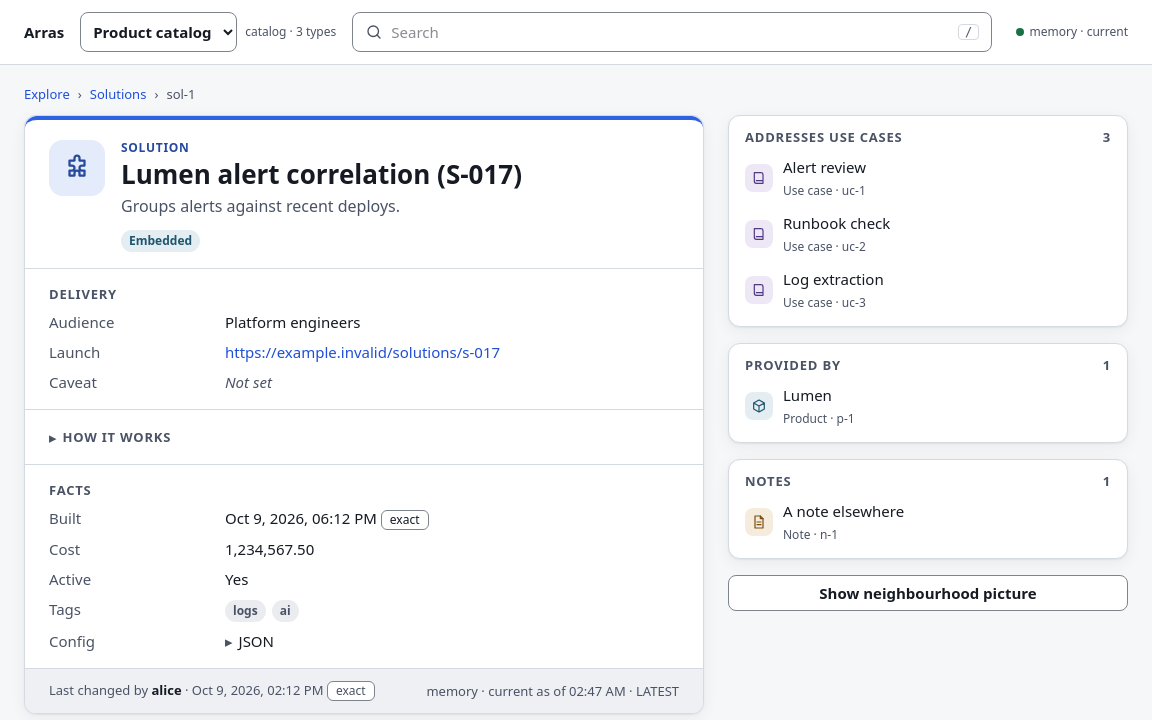
Test case: the neighbourhood picture (US-069) › in a narrow window the picture is behind a button and the lists are the only view until it is pressed
Expected: the element "Neighbourhood of" is not shown
What coordinates should you click on to do the following:
click the button "Show neighbourhood picture"
I would click on:
 (928, 593)
Its box is [728,575,1128,611].
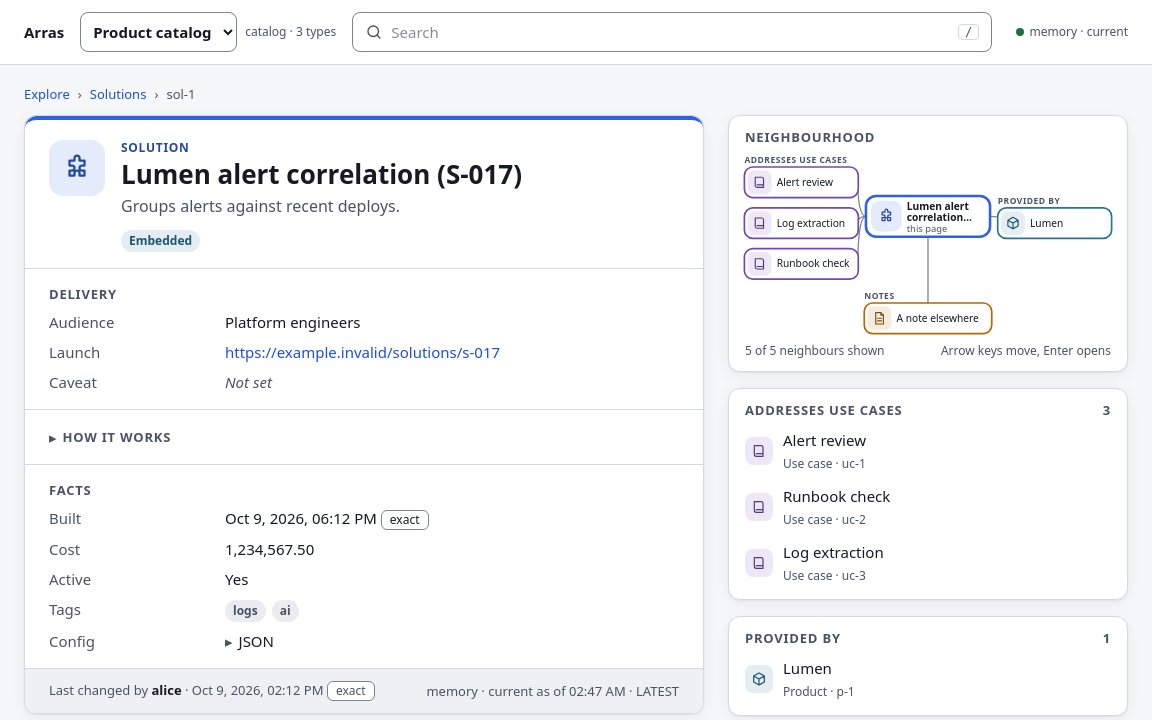
Expected: the element named "Neighbourhood of" is shown, [741,150,1115,337]
